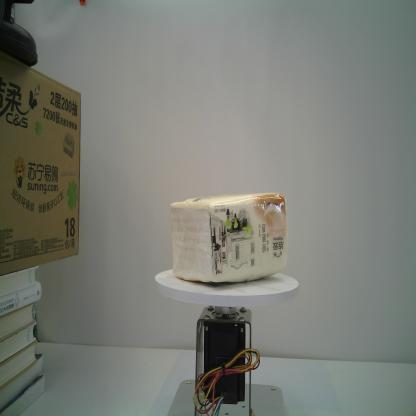Tissue: (170, 191, 286, 284)
